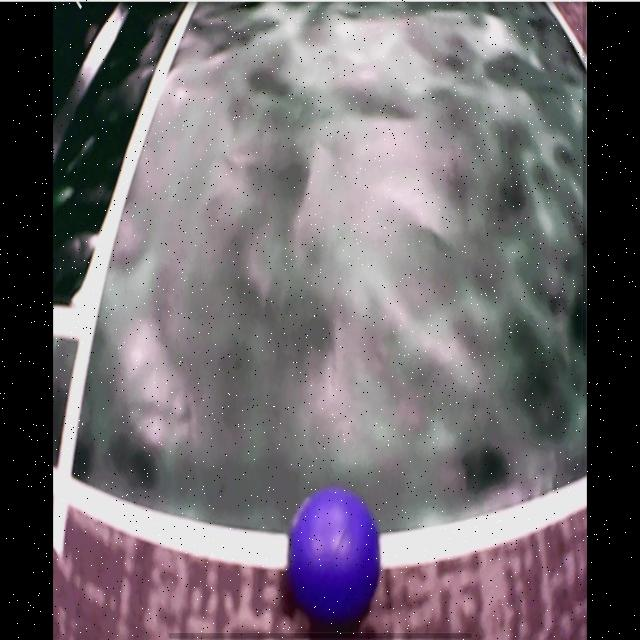ball: (291, 487, 380, 625)
